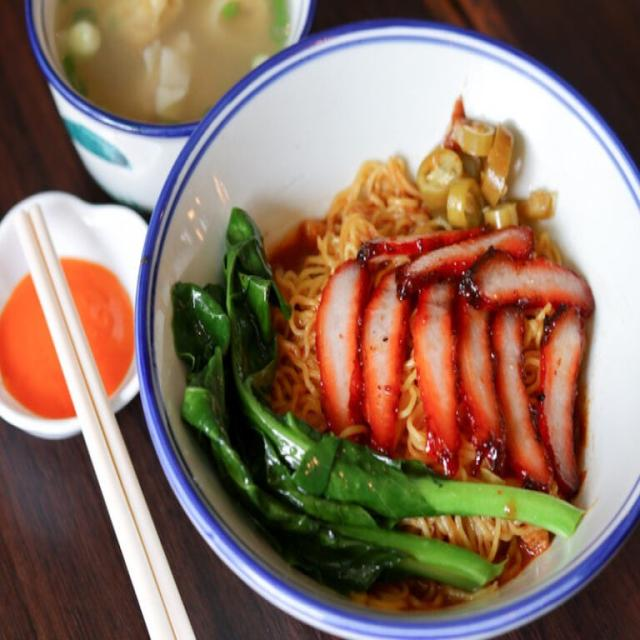Carbohydrate: (171, 150, 589, 609)
Noodle: (134, 23, 640, 640)
Protein: (314, 222, 594, 499)
Vegetable: (167, 212, 584, 592)
